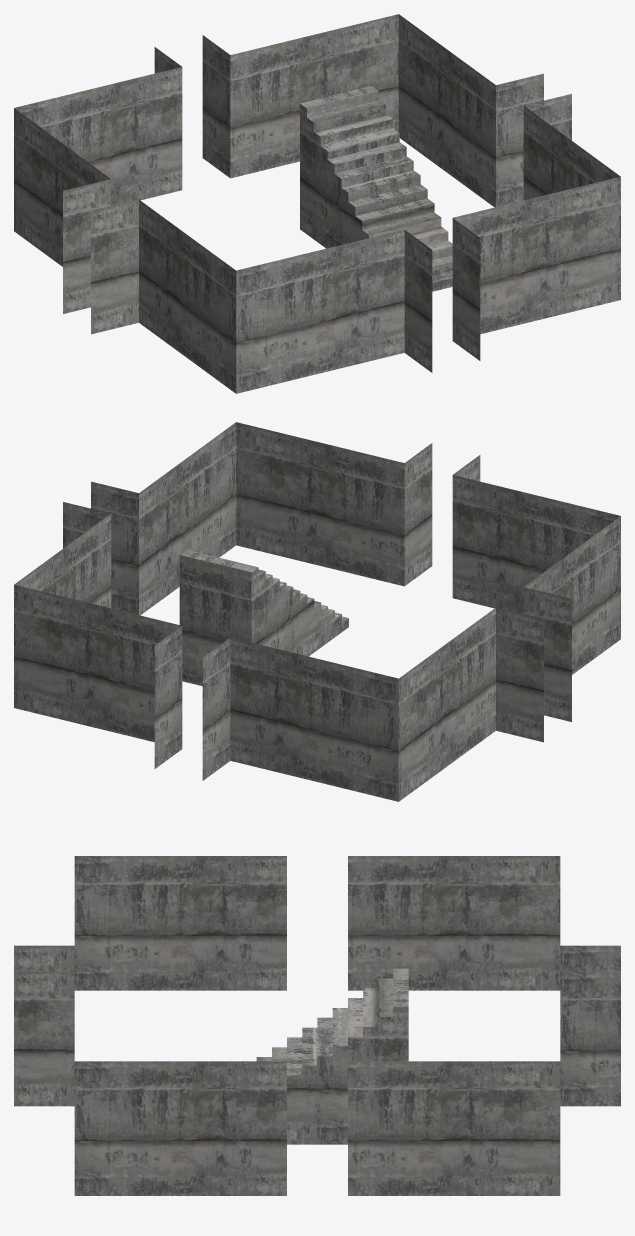
File: north_east_south_west_up_1.obj
3 renders of one model, top to bottom at view 1: azimuth 30°, elevation 25°; view 2: azimuth 150°, elevation 25°; view 3: azimuth 270°, elevation 25°, orthographic. The views are drawn at different scales.
Visible parts, largest first — view 1: Room, Stairs; view 2: Room, Stairs; view 3: Room, Stairs.
Part boxes in pixels (<box>): Room: <box>14,14,620,393</box>; Stairs: <box>300,86,452,291</box>; Room: <box>14,422,620,801</box>; Stairs: <box>179,549,348,686</box>; Room: <box>14,856,620,1195</box>; Stairs: <box>256,968,408,1144</box>.
Size of the model in its own units: 10 by 2.5 by 10.
1 material, 1 textured.
